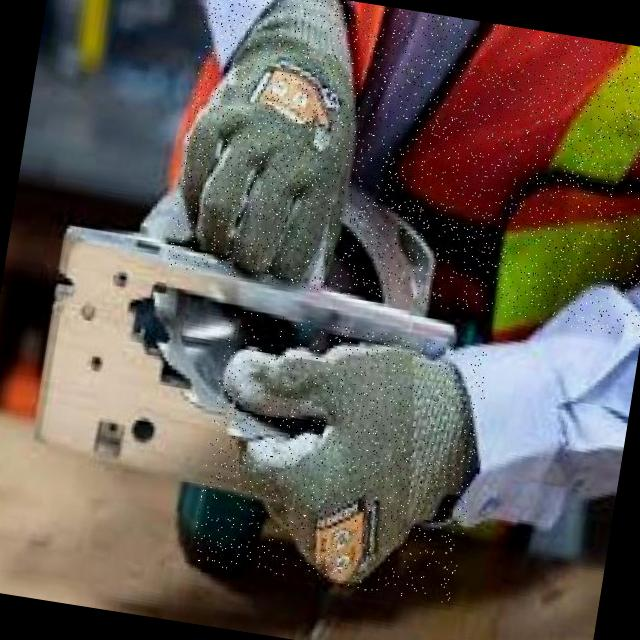vest: (309, 1, 640, 339)
